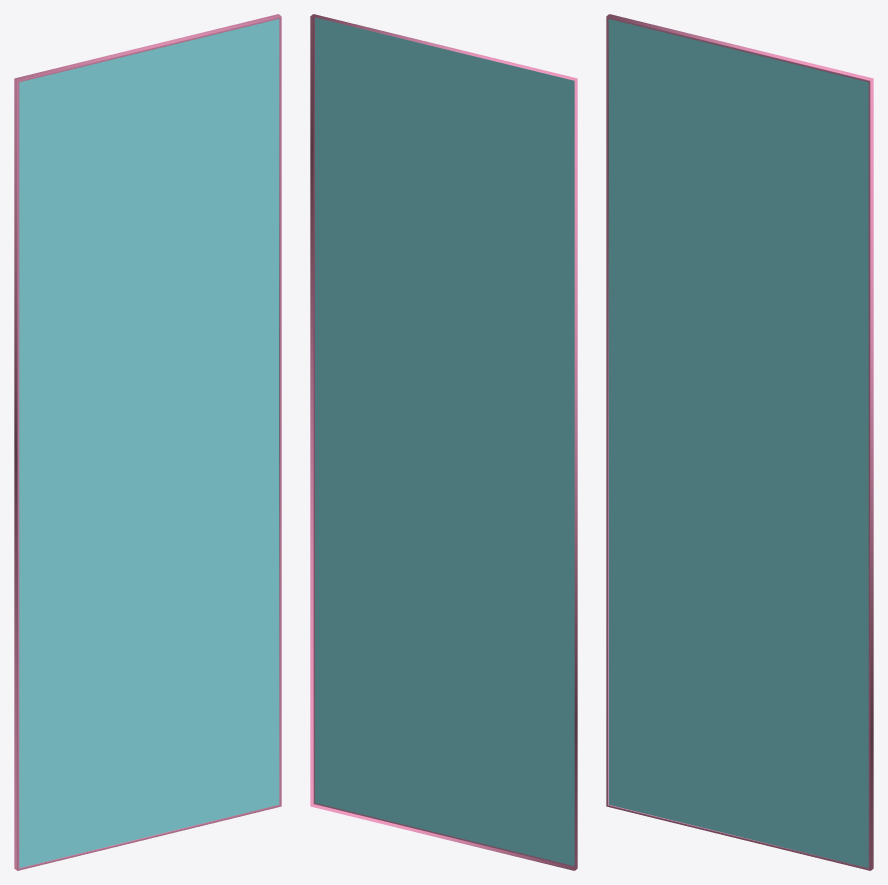
File: mirror.FBX
3 views of the same model, side by side, from view 1: azimuth 30°, elevation 25°; view 2: azimuth 150°, elevation 25°; view 3: azimuth 330°, elevation 25° (orthographic).
Parts seen in each view (by area): view 1: Mirror; view 2: Mirror; view 3: Mirror.
Boxes of the visible parts, x1,y1,x2,y2 form: Mirror: (14, 14, 281, 870); Mirror: (310, 14, 577, 870); Mirror: (606, 14, 873, 870).
Bounding box in the file's own units: 700 × 2000 × 15.
